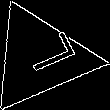L_SW: (8, 33, 72, 82)
